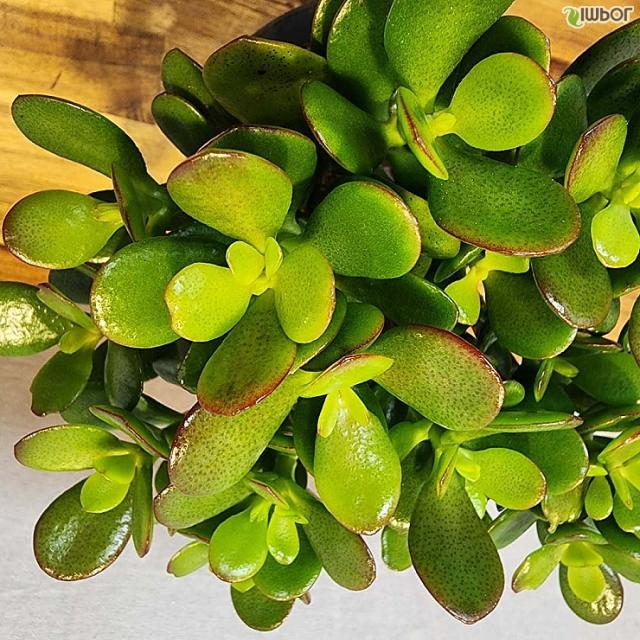Crassula: (90, 148, 420, 415), (271, 0, 581, 255), (155, 325, 504, 535), (382, 369, 586, 624), (155, 454, 375, 630), (518, 21, 640, 331), (15, 424, 154, 581), (0, 283, 142, 426), (512, 518, 640, 625), (489, 509, 541, 548)
